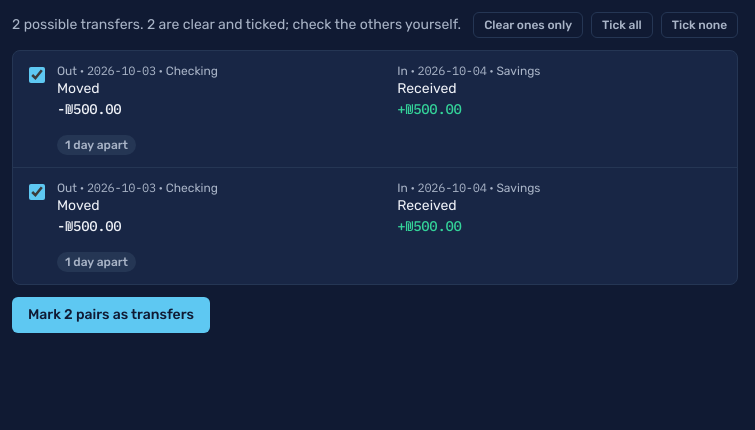
TransferMatchesPanel › says how many no longer matched
The width and height of the screenshot is (755, 430).
Click the button "Mark 2 pairs as transfers": click(111, 315) [12, 297, 210, 333]
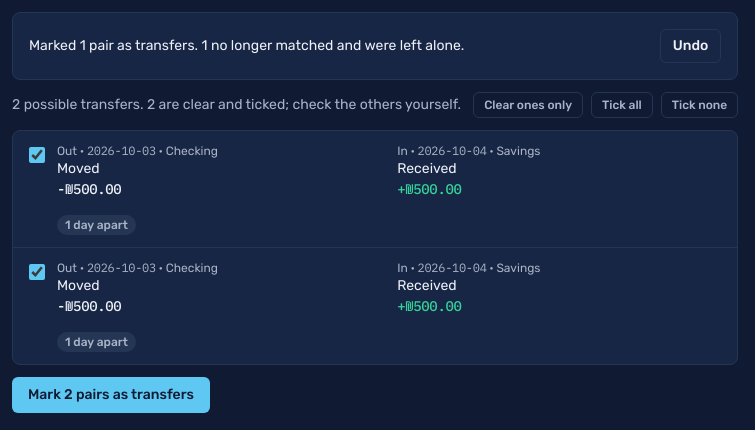
Result: the text "1 no longer matched and were left alone" is shown at [29, 37, 464, 54]
